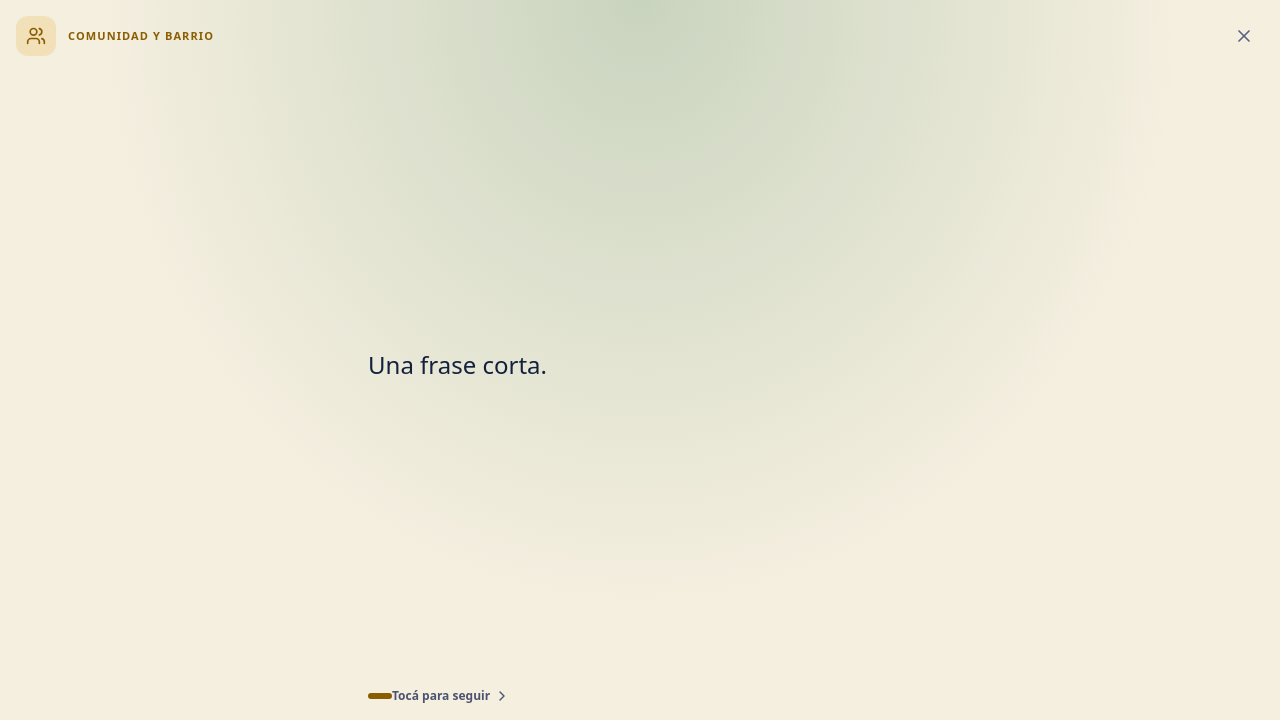
en la pantalla completa › un evento de COMMUNITY propone su minijuego propio (CHANT)
What coordinates should you click on to do the following:
click the button with aria-label "Seguir leyendo"
I would click on:
 (640, 384)
Its box is 368,64 -> 912,704.
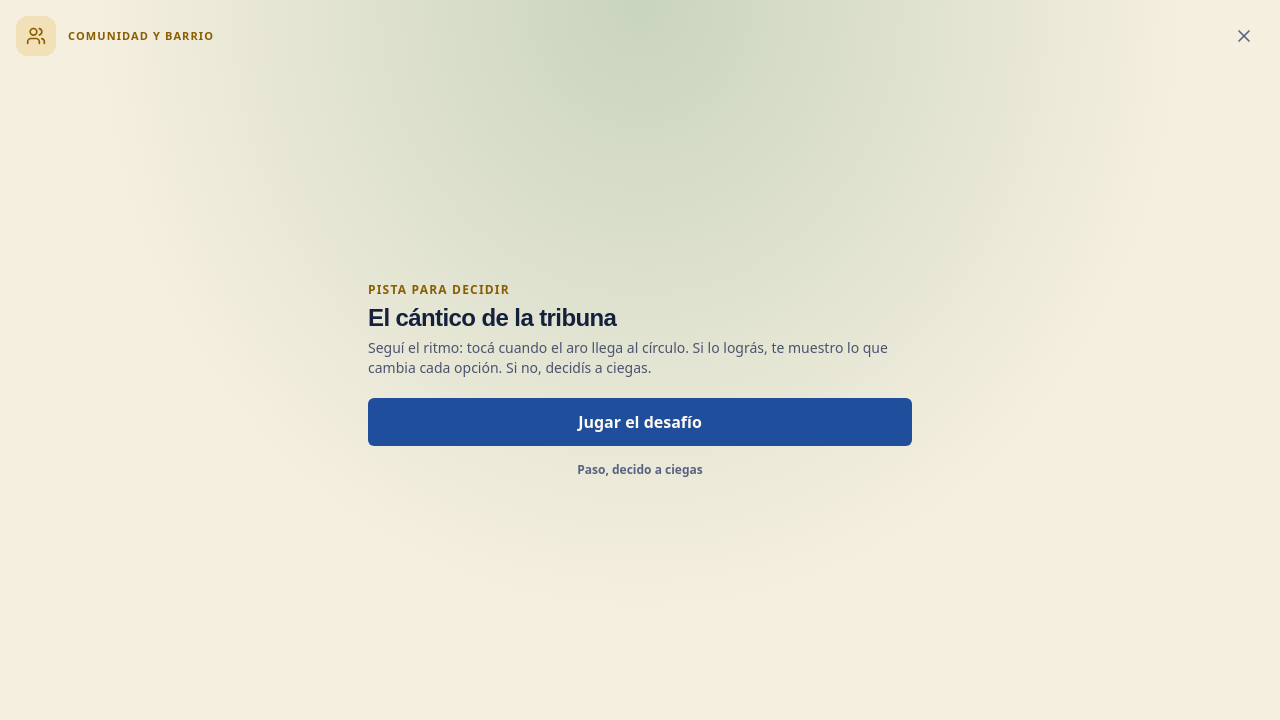
Expected: the heading "El cántico de la tribuna" is shown, 368,304 -> 616,331
Expected: the button "Jugar el desafío" is shown, 368,398 -> 912,446
